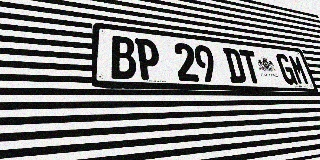2: (173, 42, 199, 81)
9: (193, 44, 218, 82)
B: (110, 35, 137, 79)
D: (222, 48, 247, 83)
G: (275, 53, 298, 85)
M: (288, 55, 310, 85)
P: (135, 38, 162, 80)
T: (239, 49, 263, 84)
